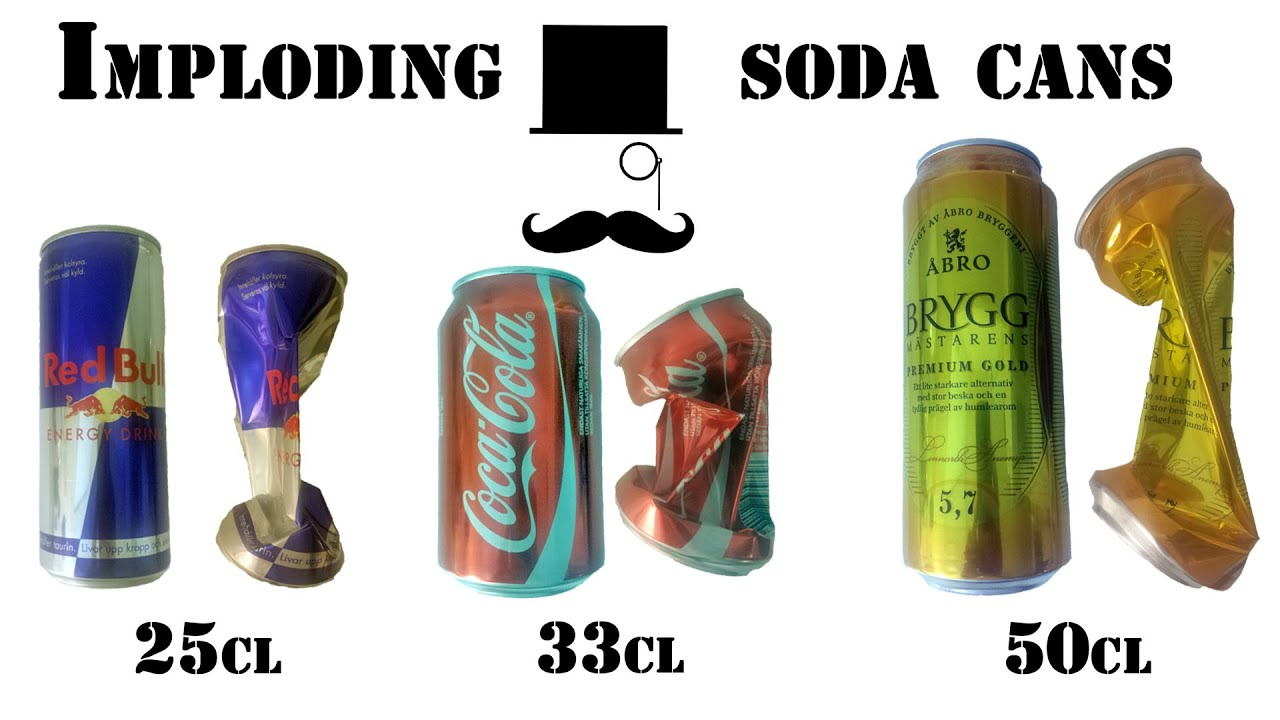can: (1074, 133, 1262, 600), (899, 136, 1073, 600), (434, 263, 608, 602), (32, 222, 174, 591), (612, 284, 777, 585), (215, 241, 354, 592)
